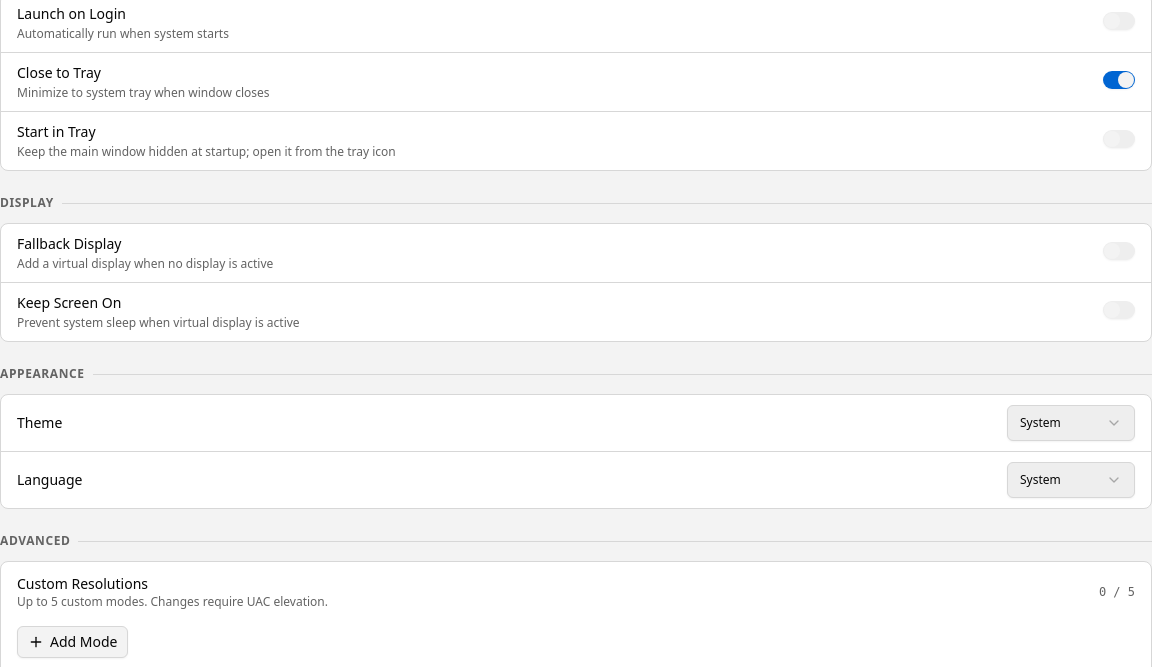
Test: SettingsPanel (Advanced section) › shows error when mode has invalid (zero) width
Click the button "Add Mode". click: (73, 642)
box: x1=17 y1=626 x2=128 y2=658
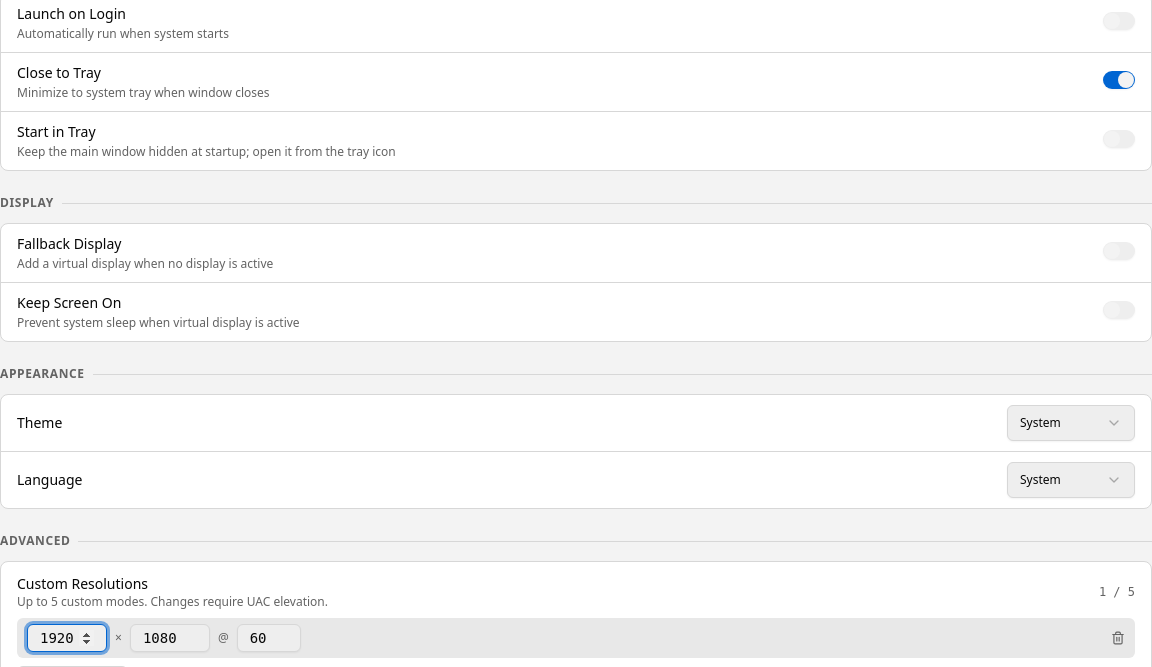
Replace the text in the 1st number field with placeholder "Width" with "0". click: (67, 638)
box: x1=27 y1=624 x2=107 y2=652
(page scrolled)
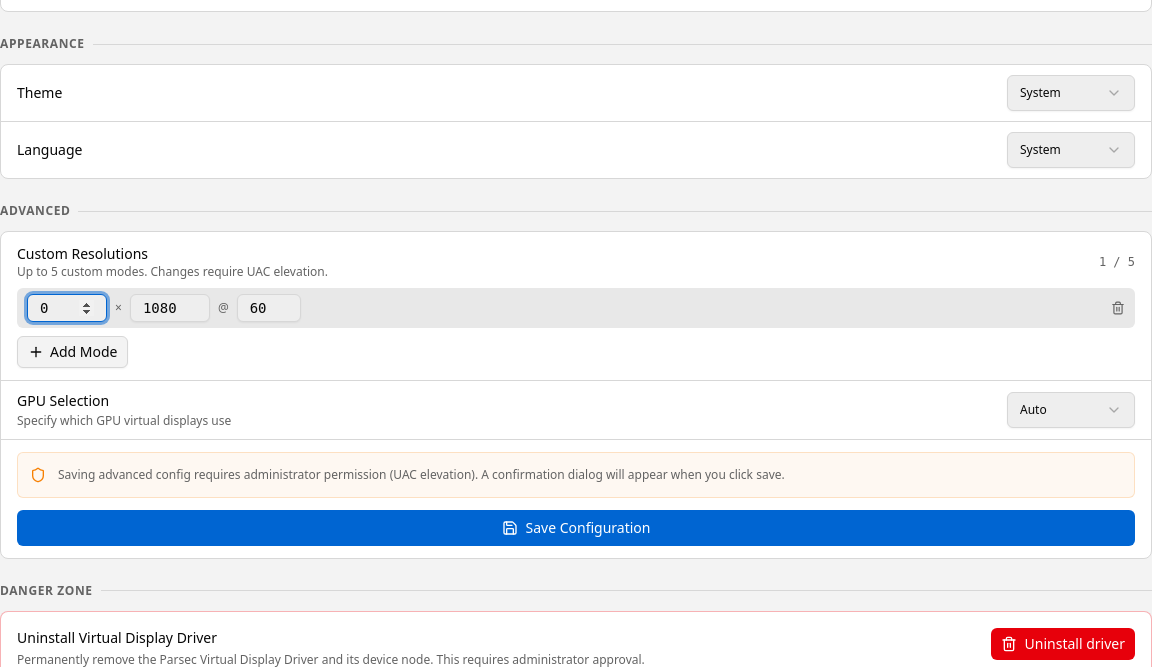
Click the button "Save Configuration". click: (576, 528)
box: x1=17 y1=510 x2=1135 y2=546
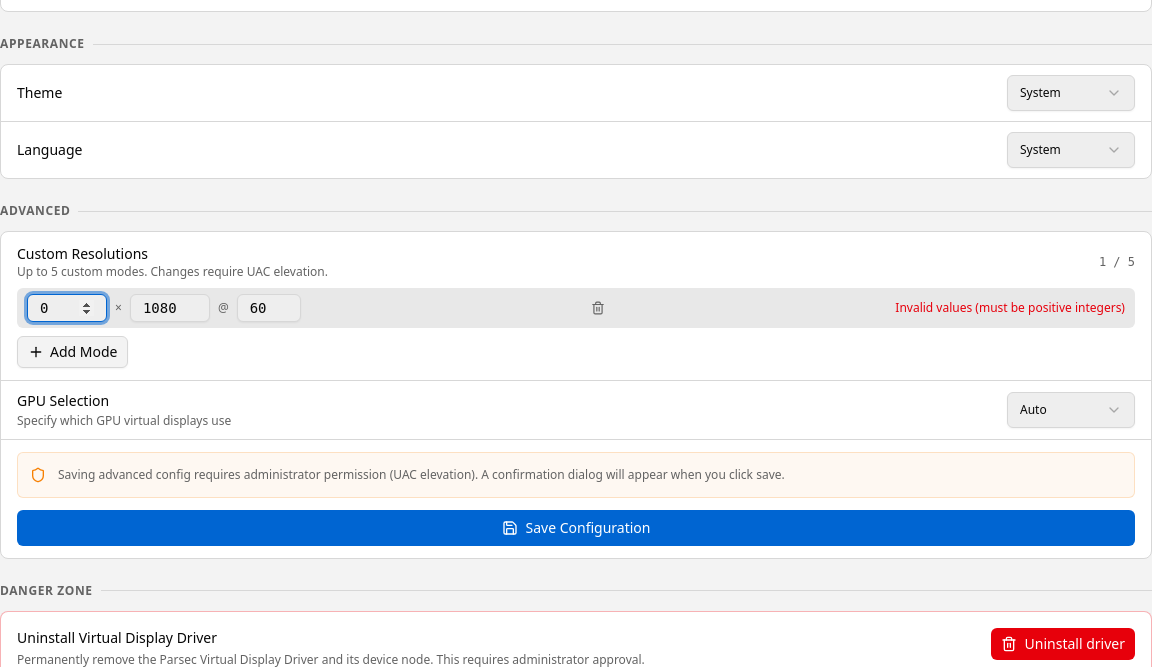
Now the text "Invalid values (must be positive integers)" is shown, box x1=895 y1=300 x2=1125 y2=316
